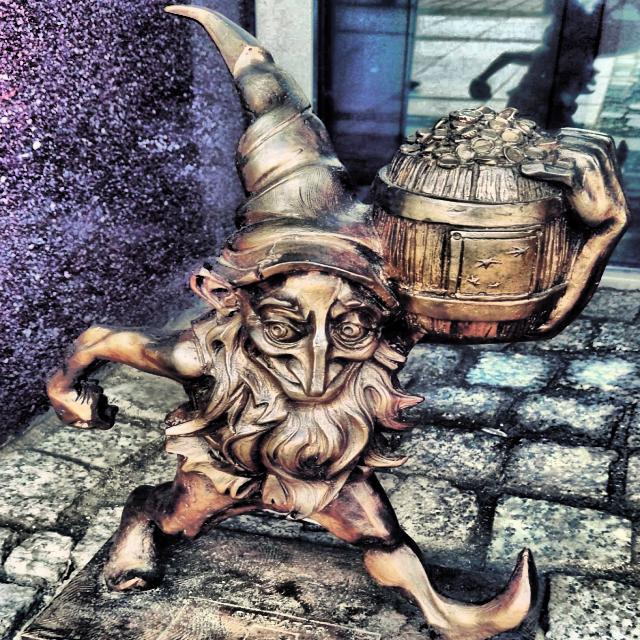Leprykonus: (36, 0, 635, 640)
